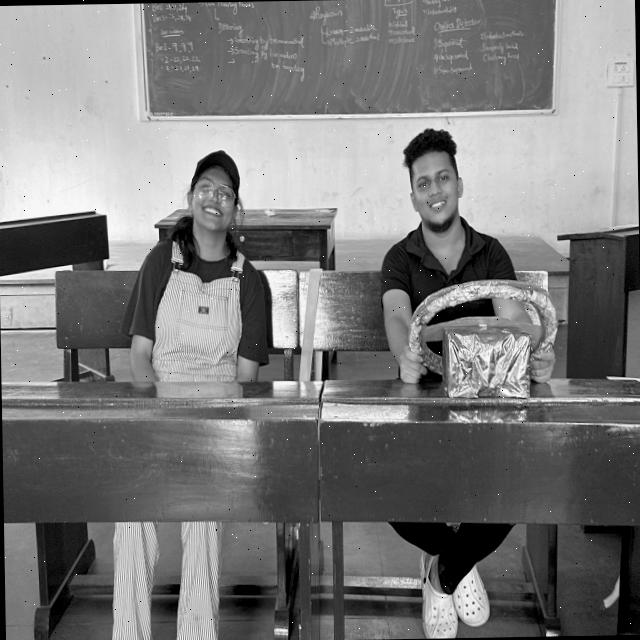Helmet: (111, 238, 286, 378), (379, 224, 531, 378)
